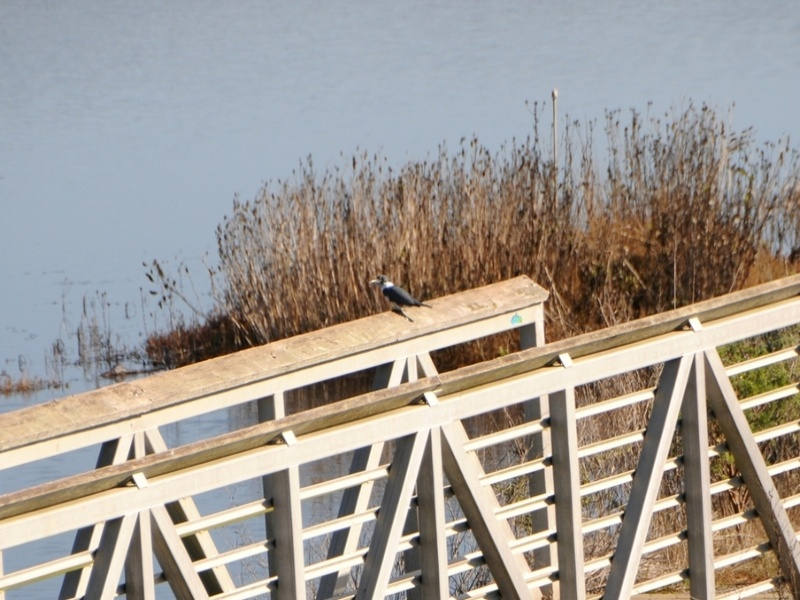kingfisher: (369, 275, 431, 316)
